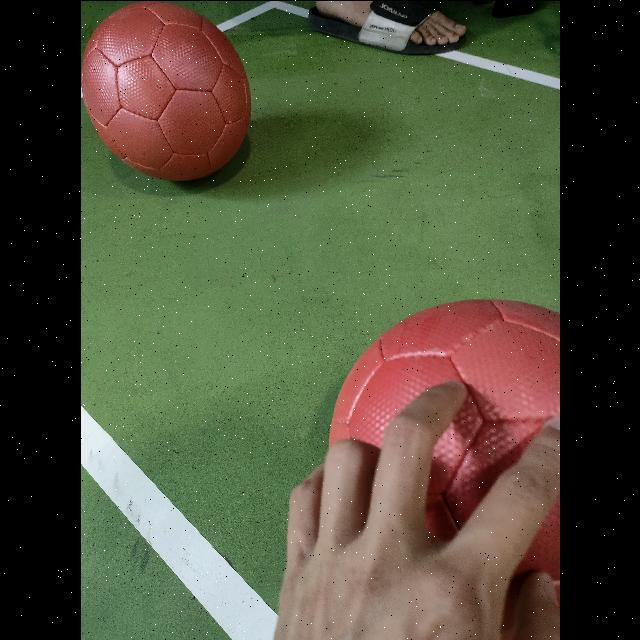R: (324, 296, 560, 640), (82, 0, 250, 182)
